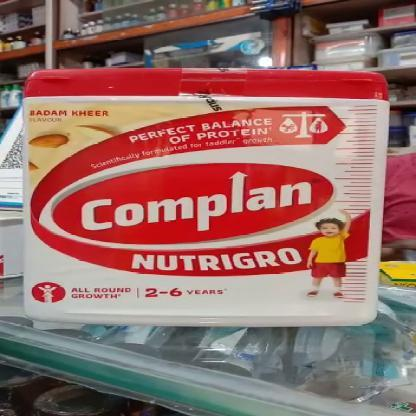Complan Nutrigro Badam Kheer: (31, 70, 380, 322)
